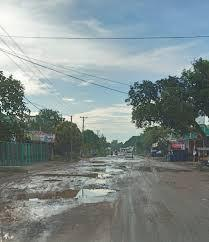Pothole: (1, 178, 143, 205), (92, 155, 205, 182), (0, 196, 61, 242), (1, 165, 110, 177)
